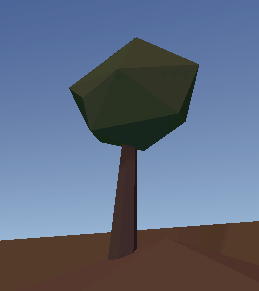tree: (67, 37, 202, 260)
